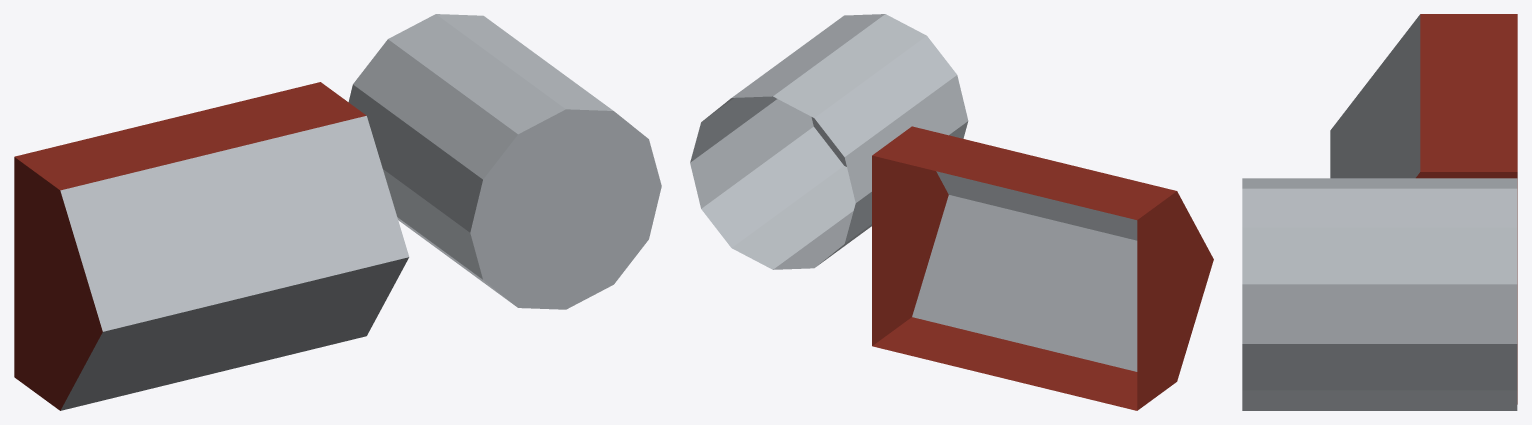
File: island_bldg_09_05.obj
3 renders of one model, left to right at view 1: azimuth 30°, elevation 25°; view 2: azimuth 150°, elevation 25°; view 3: azimuth 270°, elevation 25°, orthographic. The views are drawn at different scales.
Parts seen in each view (by area): view 1: island_bldg_09_05; view 2: island_bldg_09_05; view 3: island_bldg_09_05.
Boxes of the visible parts, box(x1,y1,x2,y2) form: island_bldg_09_05: box(14, 14, 661, 410); island_bldg_09_05: box(690, 14, 1213, 410); island_bldg_09_05: box(1242, 14, 1517, 410).
Bounding box in the file's own units: 54 × 26 × 23.6.
